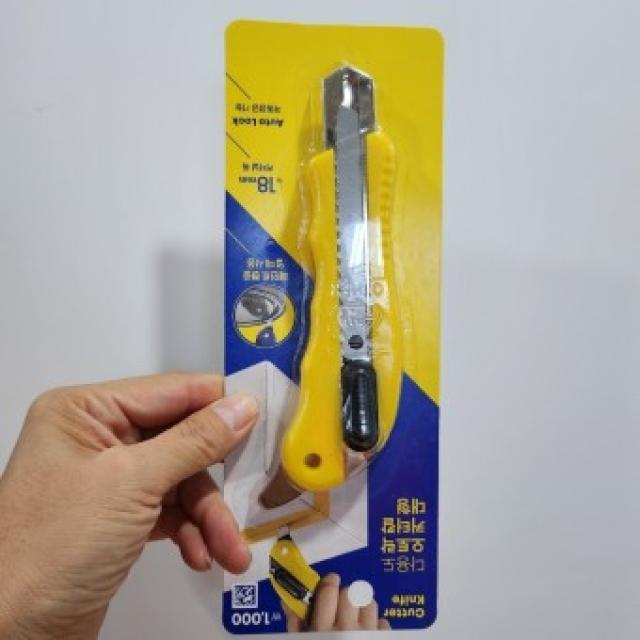cutter: (288, 60, 403, 500)
